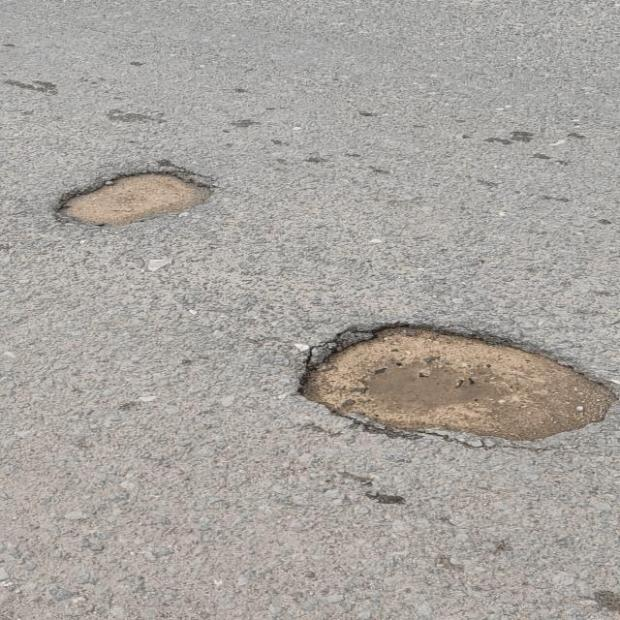lubang: (299, 326, 616, 445), (59, 171, 212, 226)
